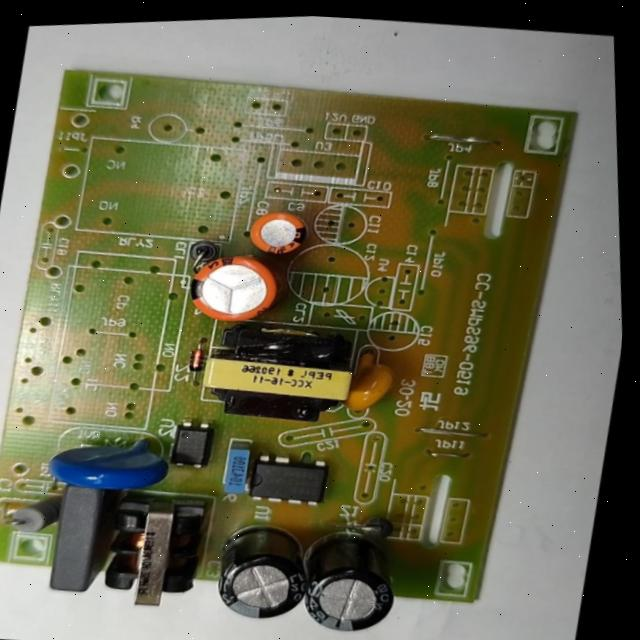Cap1: (175, 238, 297, 335)
Cap2: (238, 201, 315, 260)
Cap3: (200, 511, 324, 632)
Cap4: (290, 519, 414, 640)
MOSFET: (241, 444, 336, 516)
Mov: (36, 417, 181, 505)
Resistor: (0, 483, 66, 542)
Transformer: (184, 313, 368, 440), (85, 483, 218, 616)
